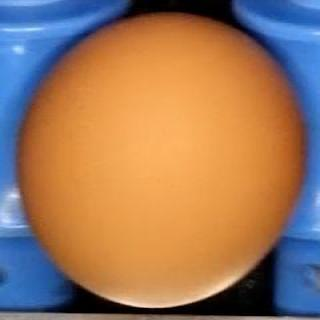Telur: (13, 11, 312, 311)
